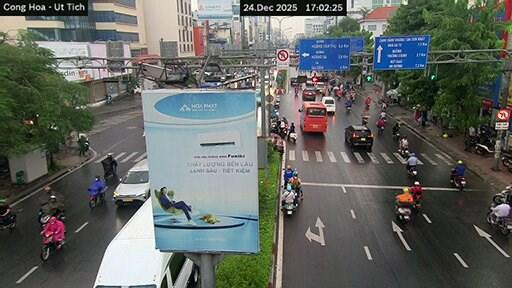motorbike: (486, 203, 511, 235), (40, 233, 63, 260), (38, 209, 65, 228), (89, 187, 106, 208), (492, 186, 511, 204), (450, 169, 466, 190), (0, 210, 16, 230), (395, 205, 411, 222), (475, 140, 494, 154), (501, 151, 511, 171), (282, 203, 297, 216), (104, 166, 116, 180), (408, 166, 417, 179), (278, 126, 287, 139), (399, 149, 409, 159), (413, 199, 421, 211), (270, 122, 278, 133), (289, 132, 296, 142), (274, 98, 280, 109), (105, 94, 112, 103), (392, 131, 399, 140), (377, 125, 384, 134), (362, 116, 368, 125), (345, 106, 351, 112)
